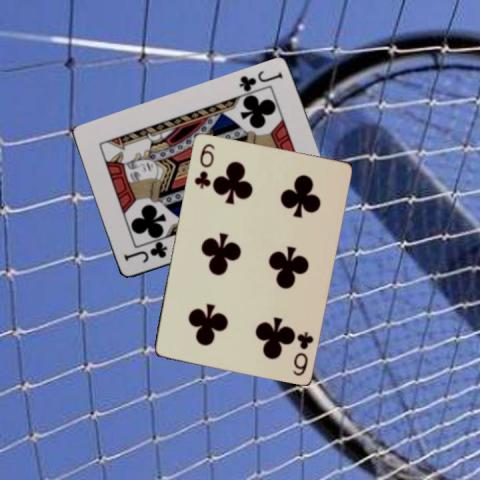6c: (289, 328, 315, 377), (191, 140, 216, 189)
Jc: (236, 67, 284, 94), (120, 240, 168, 264)
